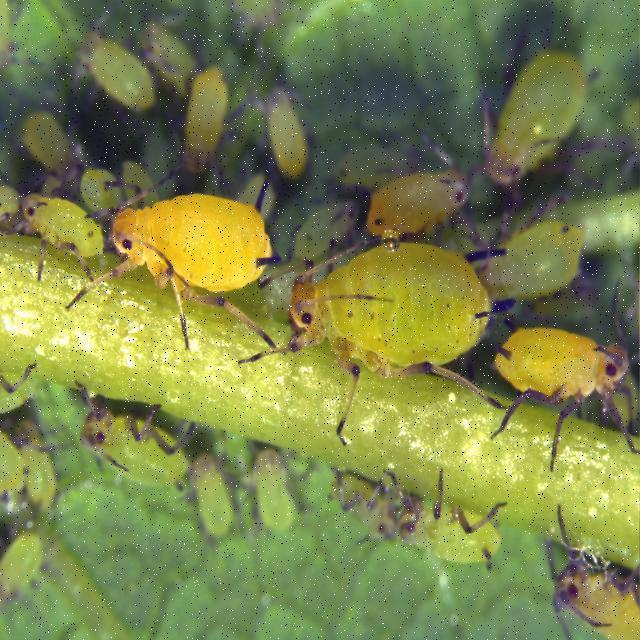Aphids: (254, 182, 484, 446), (72, 146, 302, 354), (495, 279, 632, 472), (538, 507, 640, 640), (72, 390, 184, 502), (19, 173, 111, 297), (401, 490, 515, 580)
